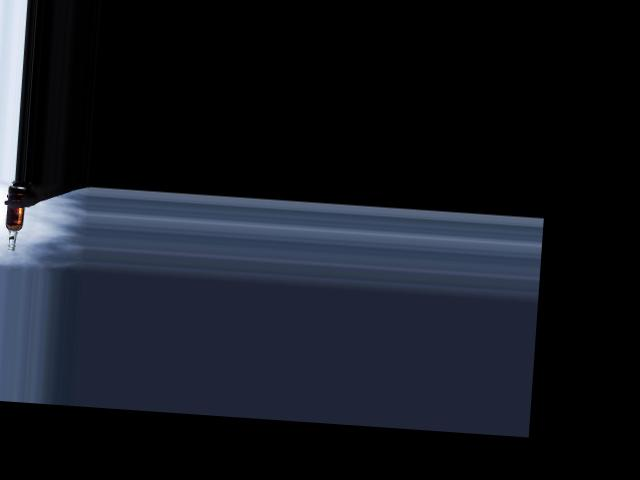beer: (5, 186, 26, 251)
